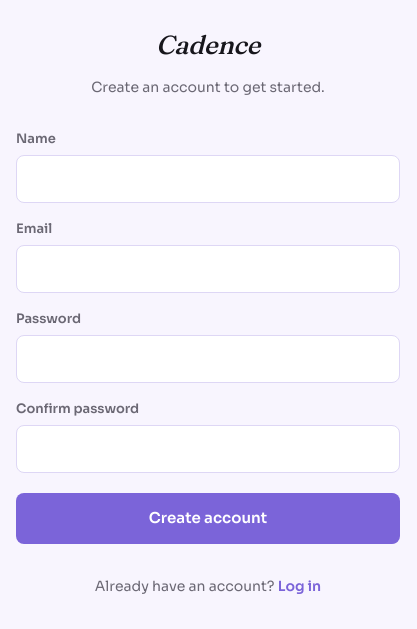
Test: RegisterPage › shows the server's reason and doesn't try to log in when registration fails
The image size is (417, 629).
Type "Ada Lovelace" into the field labelled "Name".
click(208, 179); type("Ada Lovelace")  # box [16,155,400,203]
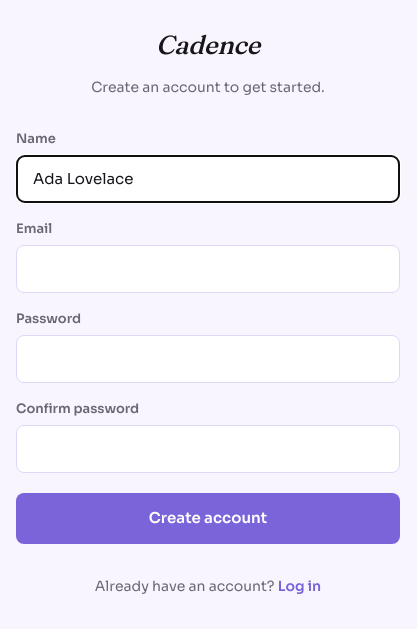
Type "ada@example.com" into the field labelled "Email".
click(208, 269); type("ada@example.com")  # box [16,245,400,293]
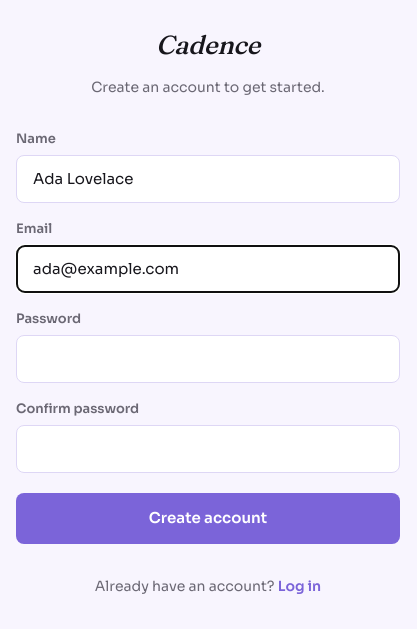
Type "correct-horse" into the password field labelled "Password".
click(208, 359); type("correct-horse")  # box [16,335,400,383]
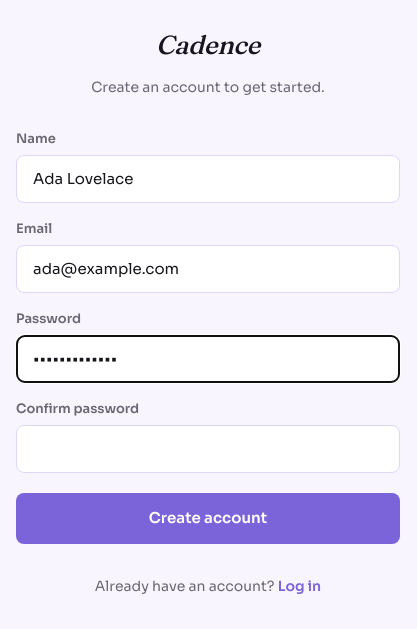
Type "correct-horse" into the password field labelled "Confirm password".
click(208, 449); type("correct-horse")  # box [16,425,400,473]
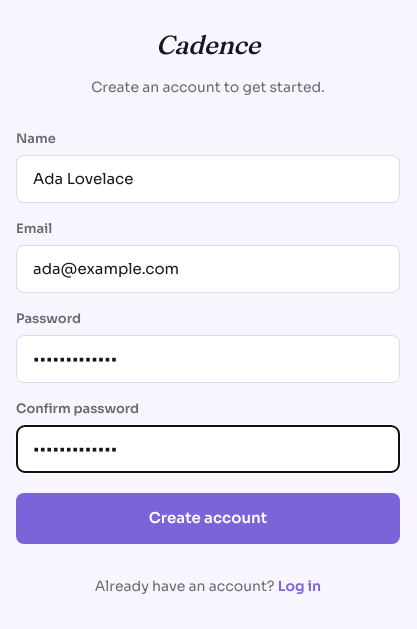
Click the button "Create account".
click(208, 519)  # box [16,493,400,544]
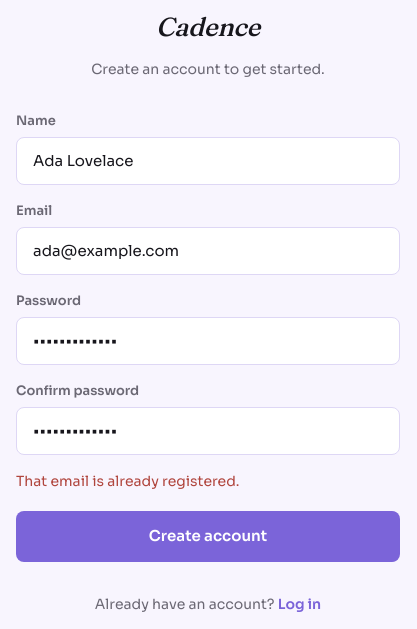
Expected: the text "That email is already registered." is shown, [16,472,240,490]
